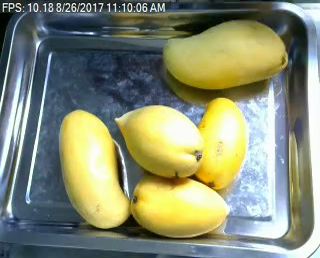Mango: (154, 15, 291, 91), (52, 105, 132, 229), (130, 170, 233, 243), (115, 104, 203, 176), (191, 95, 250, 189)
